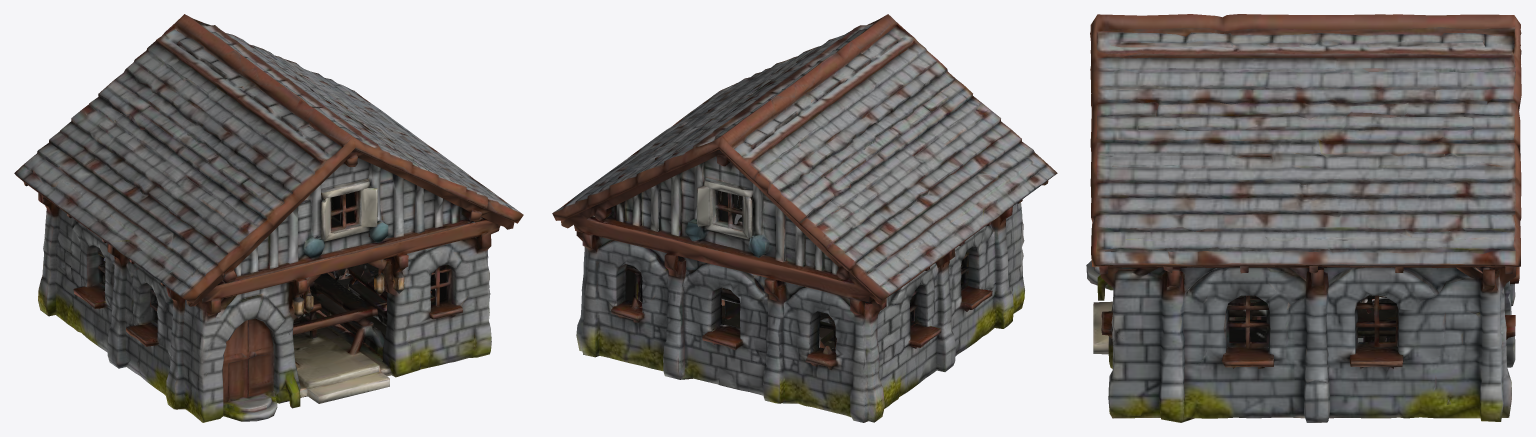
Rendered from Dwarven Building #7_final.glb.
3 views of the same model, side by side, from view 1: azimuth 30°, elevation 25°; view 2: azimuth 150°, elevation 25°; view 3: azimuth 270°, elevation 25° (orthographic). The views are drawn at different scales.
Size of the model in its own units: 1.92 by 1.38 by 1.71.
Materials: 1 (1 with a texture image).
